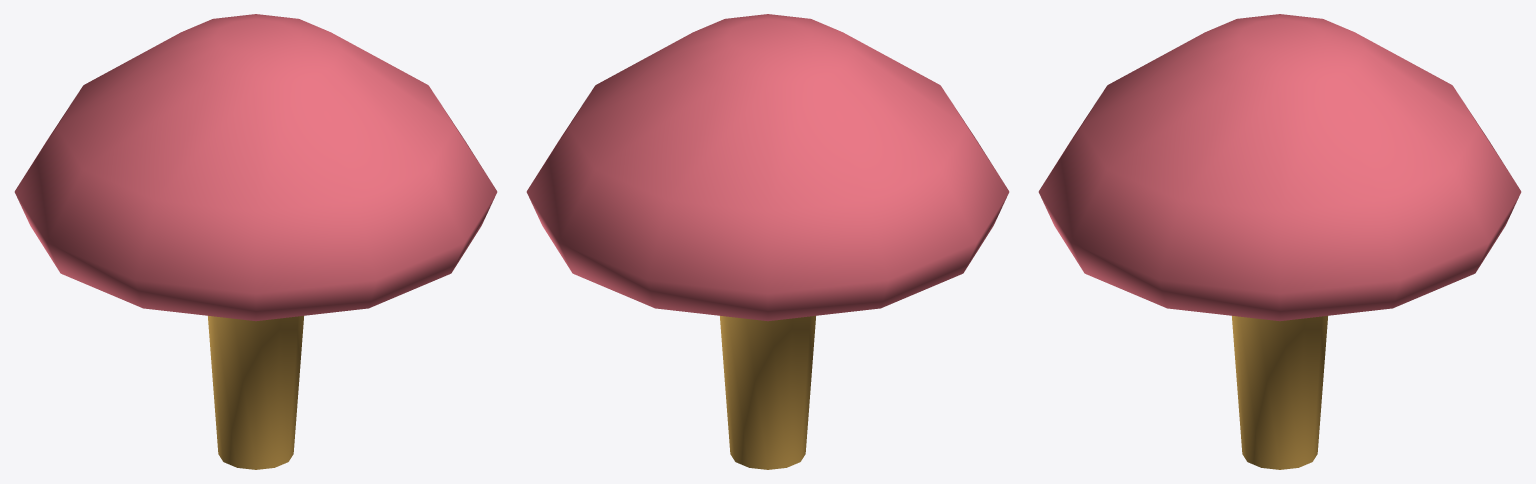
The model's file is Mushroom.fbx.
3 renders of one model, left to right at view 1: azimuth 30°, elevation 25°; view 2: azimuth 150°, elevation 25°; view 3: azimuth 270°, elevation 25°, orthographic.
Visible parts, largest first — view 1: MushRoom; view 2: MushRoom; view 3: MushRoom.
Part boxes in pixels (left/top/right/bottom): MushRoom: left=14, top=14, right=497, bottom=469; MushRoom: left=526, top=14, right=1009, bottom=469; MushRoom: left=1038, top=14, right=1521, bottom=469.
Size of the model in its own units: 1.21 by 1.15 by 1.21.
